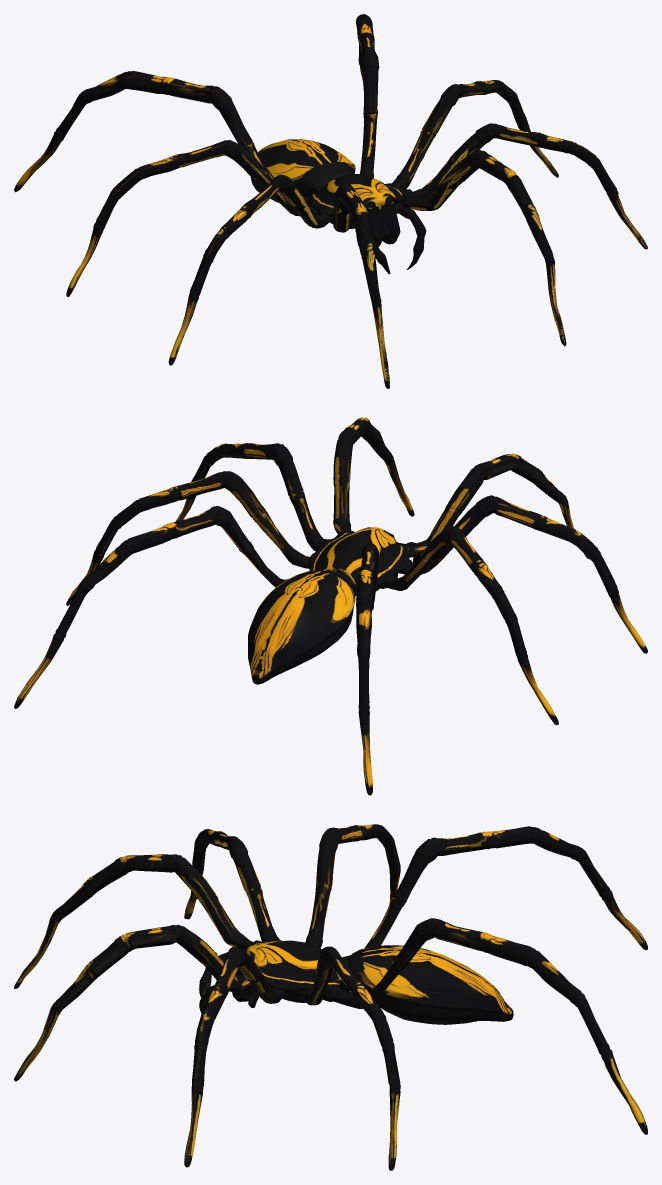
The model's file is giant-spider.glb.
3 renders of one model, top to bottom at view 1: azimuth 30°, elevation 25°; view 2: azimuth 150°, elevation 25°; view 3: azimuth 270°, elevation 25°, orthographic. The views are drawn at different scales.
Bounding box in the file's own units: 1.81 × 0.5442 × 1.9.
1 material, 1 textured.
